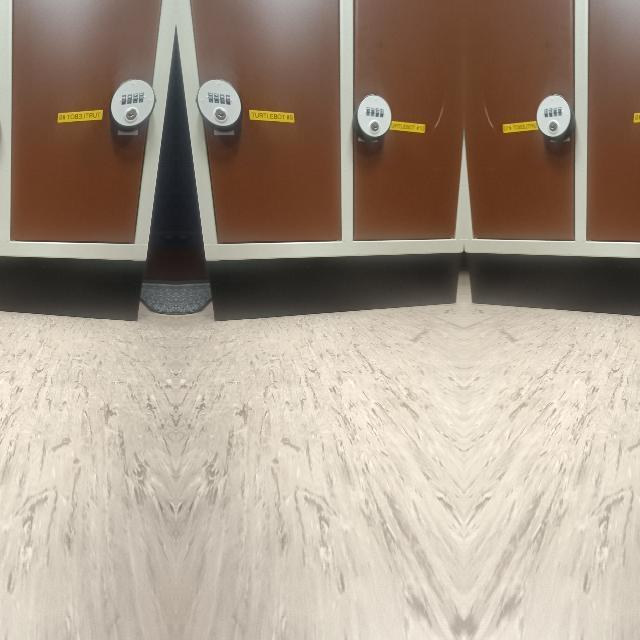obstacle: (174, 20, 463, 318), (463, 20, 640, 318), (0, 20, 175, 318)
